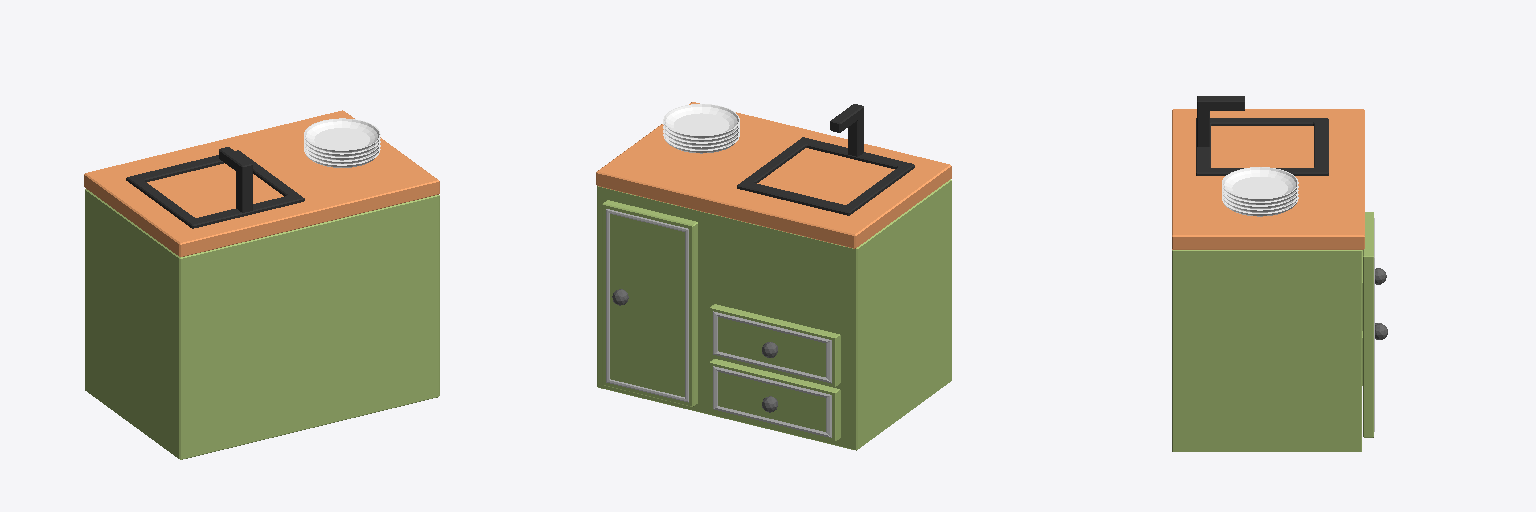
File: green-kitchen2.obj
3 views of the same model, side by side, from view 1: azimuth 30°, elevation 25°; view 2: azimuth 150°, elevation 25°; view 3: azimuth 270°, elevation 25° (orthographic).
Parts seen in each view (by area): view 1: green_kitchen2:CounterFBXASC032withFBXASC032sink1; view 2: green_kitchen2:CounterFBXASC032withFBXASC032sink1; view 3: green_kitchen2:CounterFBXASC032withFBXASC032sink1.
Part boxes in pixels (x1,y1,x2,y2): green_kitchen2:CounterFBXASC032withFBXASC032sink1: (84, 110, 439, 459); green_kitchen2:CounterFBXASC032withFBXASC032sink1: (596, 102, 951, 450); green_kitchen2:CounterFBXASC032withFBXASC032sink1: (1172, 96, 1387, 451).
Bounding box in the file's own units: 188 × 184 × 136.